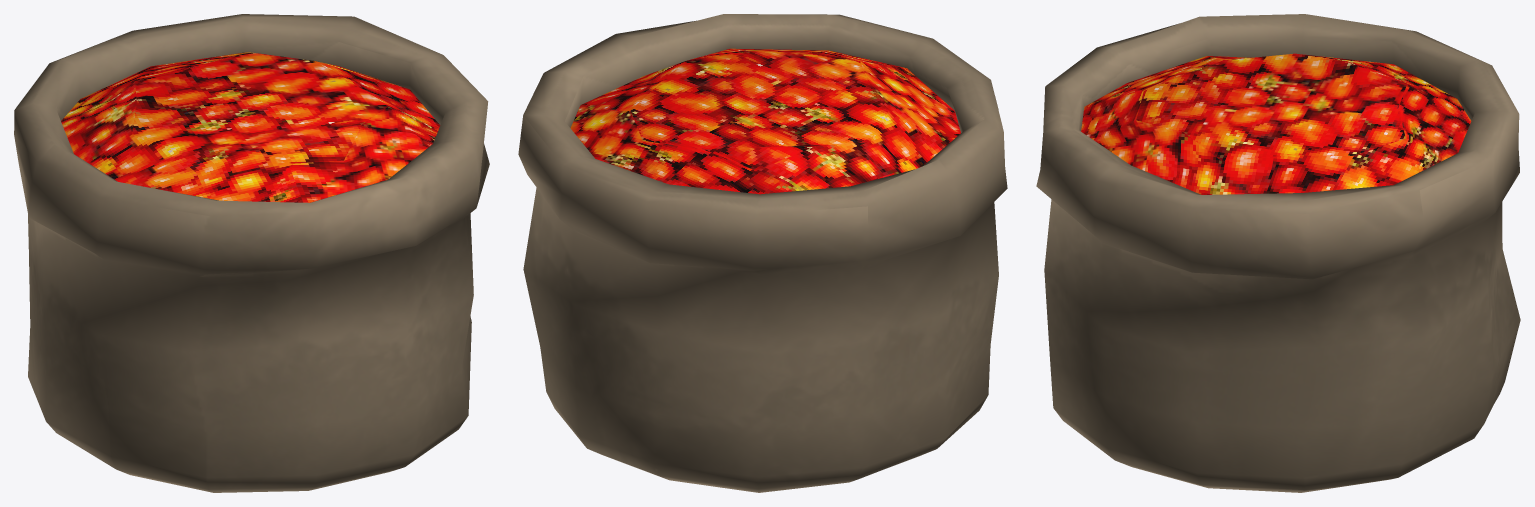
The model's file is tomato_sack.glb.
3 renders of one model, left to right at view 1: azimuth 30°, elevation 25°; view 2: azimuth 150°, elevation 25°; view 3: azimuth 270°, elevation 25°, orthographic.
Parts seen in each view (by area): view 1: tomato_sack; view 2: tomato_sack; view 3: tomato_sack.
Part boxes in pixels (<box>): tomato_sack: <box>14,14,489,492</box>; tomato_sack: <box>518,14,1007,492</box>; tomato_sack: <box>1036,14,1520,492</box>.
Size of the model in its own units: 1.79 by 1.27 by 1.79.
Materials: 2 (2 with a texture image).
